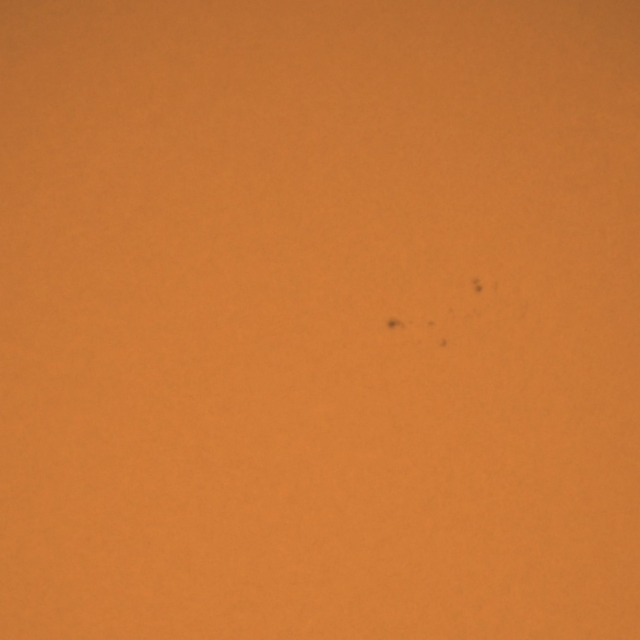sunspot: (386, 317, 432, 335), (385, 317, 408, 332), (470, 276, 485, 295), (438, 337, 449, 350), (427, 319, 437, 329)
